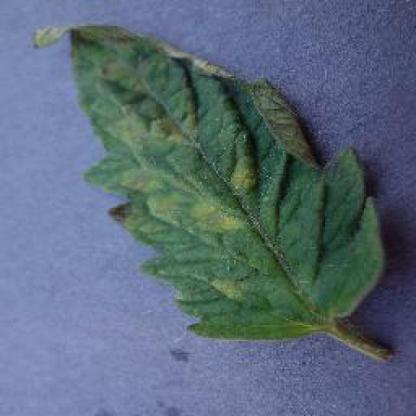Tomato_Leaf_Mold: (69, 27, 383, 339)
